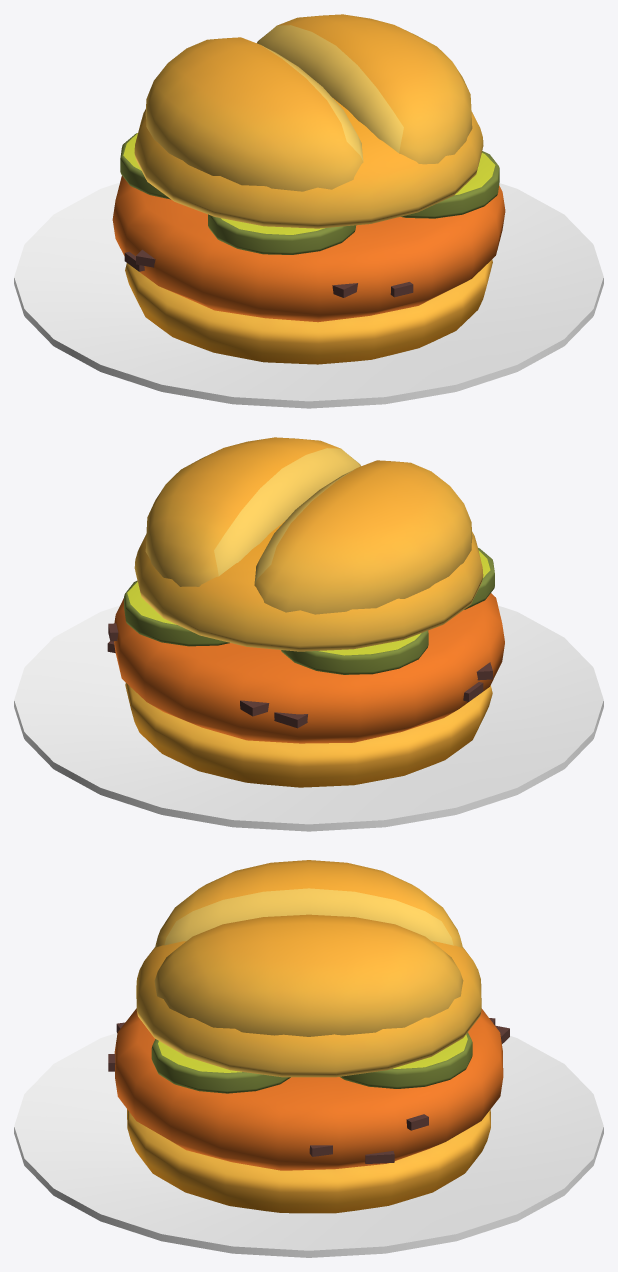
File: Crispy_Chicken_Sandwich.fbx
3 renders of one model, top to bottom at view 1: azimuth 30°, elevation 25°; view 2: azimuth 150°, elevation 25°; view 3: azimuth 270°, elevation 25°, orthographic.
Visible parts, largest first — view 1: Crispy_Chicken_Sandwich; view 2: Crispy_Chicken_Sandwich; view 3: Crispy_Chicken_Sandwich.
Boxes of the visible parts, bbox=[...] form: Crispy_Chicken_Sandwich: bbox=[14, 14, 603, 408]; Crispy_Chicken_Sandwich: bbox=[14, 437, 603, 831]; Crispy_Chicken_Sandwich: bbox=[14, 860, 603, 1257].
Size of the model in its own units: 146 by 75.74 by 146.
